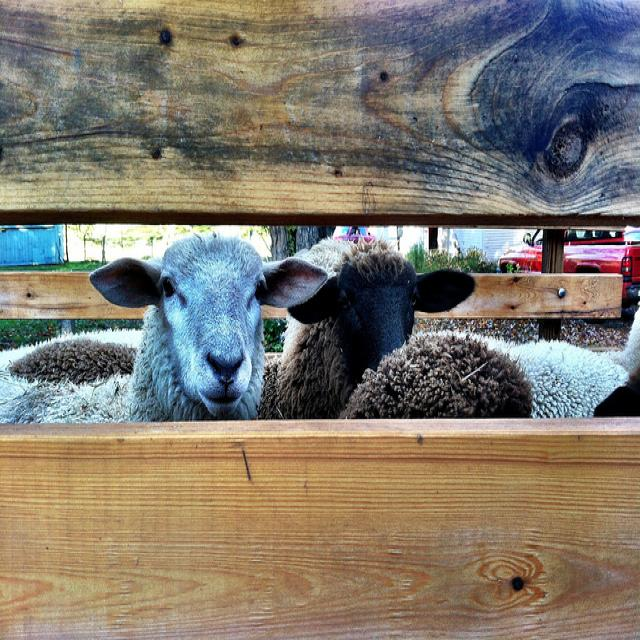Vehicle: (496, 227, 640, 311), (334, 226, 378, 243)
